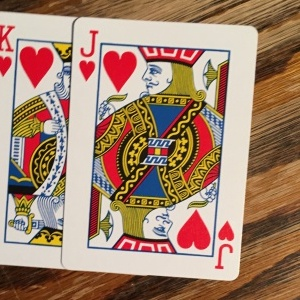card: (62, 16, 259, 284)
